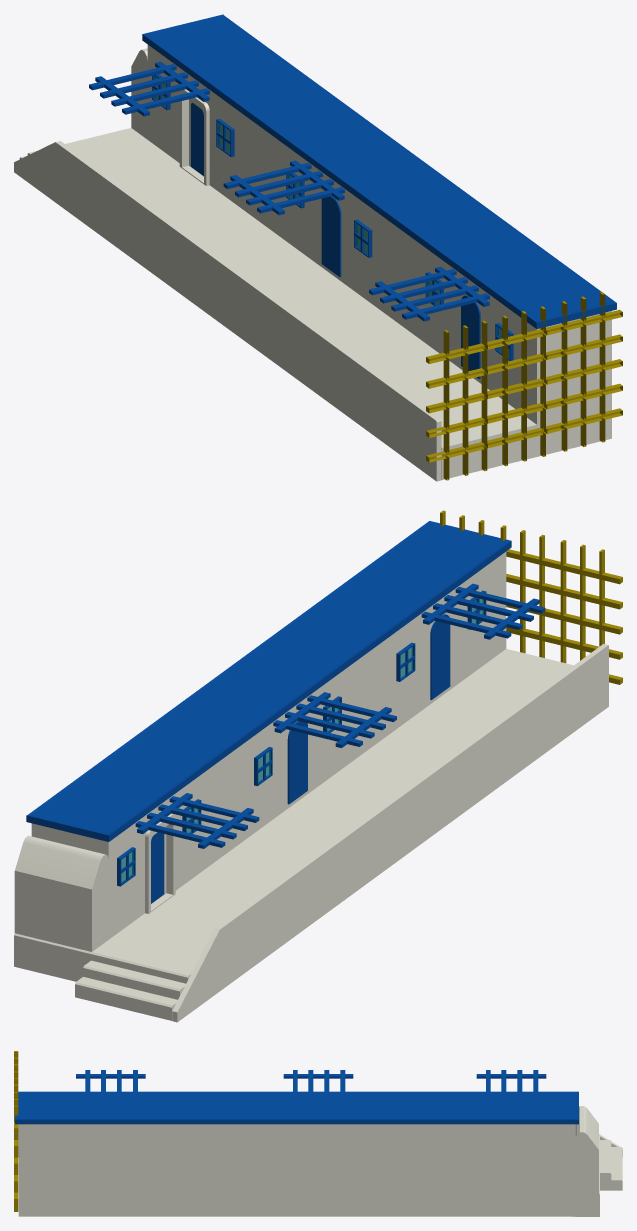
File: fillerBuilding_05.fbx
The picture shows the model from 3 angles, top to bottom: view 1: azimuth 30°, elevation 25°; view 2: azimuth 150°, elevation 25°; view 3: azimuth 270°, elevation 25°; orthographic projection. The views are drawn at different scales.
Visible parts, largest first — view 1: polySurface133; view 2: polySurface133; view 3: polySurface133.
Boxes of the visible parts, left/top/right/bottom form: polySurface133: left=14, top=14, right=622, bottom=481; polySurface133: left=14, top=510, right=622, bottom=1022; polySurface133: left=14, top=1051, right=622, bottom=1216.
Size of the model in its own units: 4.35 by 3.21 by 16.57.
